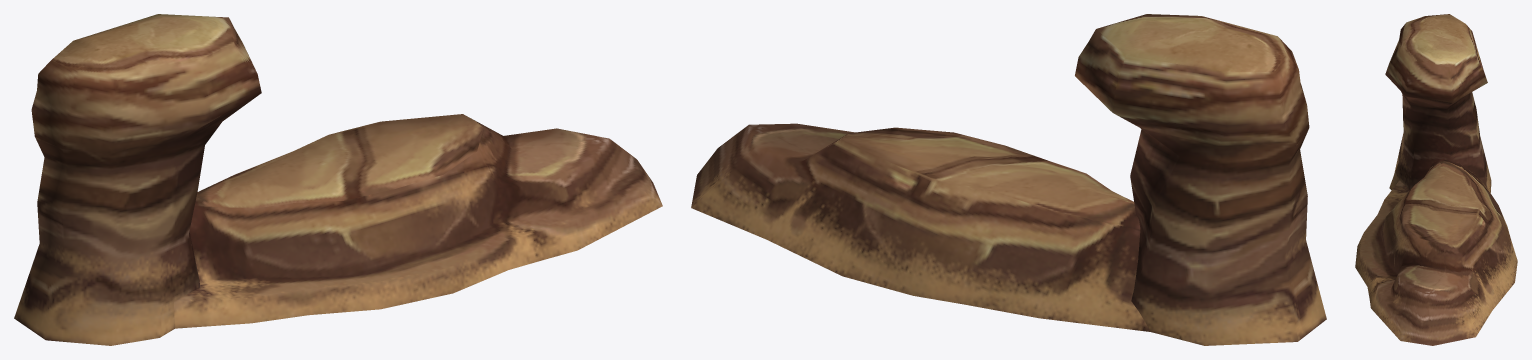
Rendered from shitou08.FBX.
The picture shows the model from 3 angles, left to right: view 1: azimuth 30°, elevation 25°; view 2: azimuth 150°, elevation 25°; view 3: azimuth 270°, elevation 25°; orthographic projection. The views are drawn at different scales.
Parts seen in each view (by area): view 1: shitou08; view 2: shitou08; view 3: shitou08.
Boxes of the visible parts, box(x1,y1,x2,y2) form: shitou08: box(14, 14, 662, 345); shitou08: box(691, 14, 1326, 345); shitou08: box(1355, 14, 1517, 345).
Size of the model in its own units: 541 by 223 by 201.
